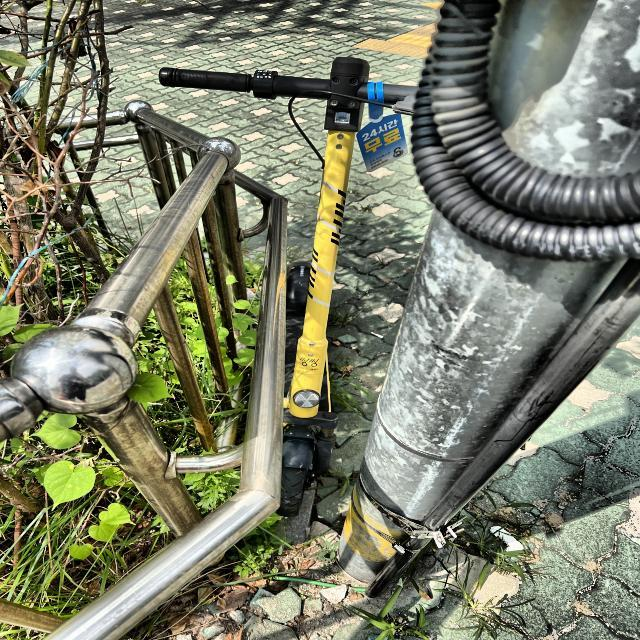bike: (146, 0, 639, 579)
